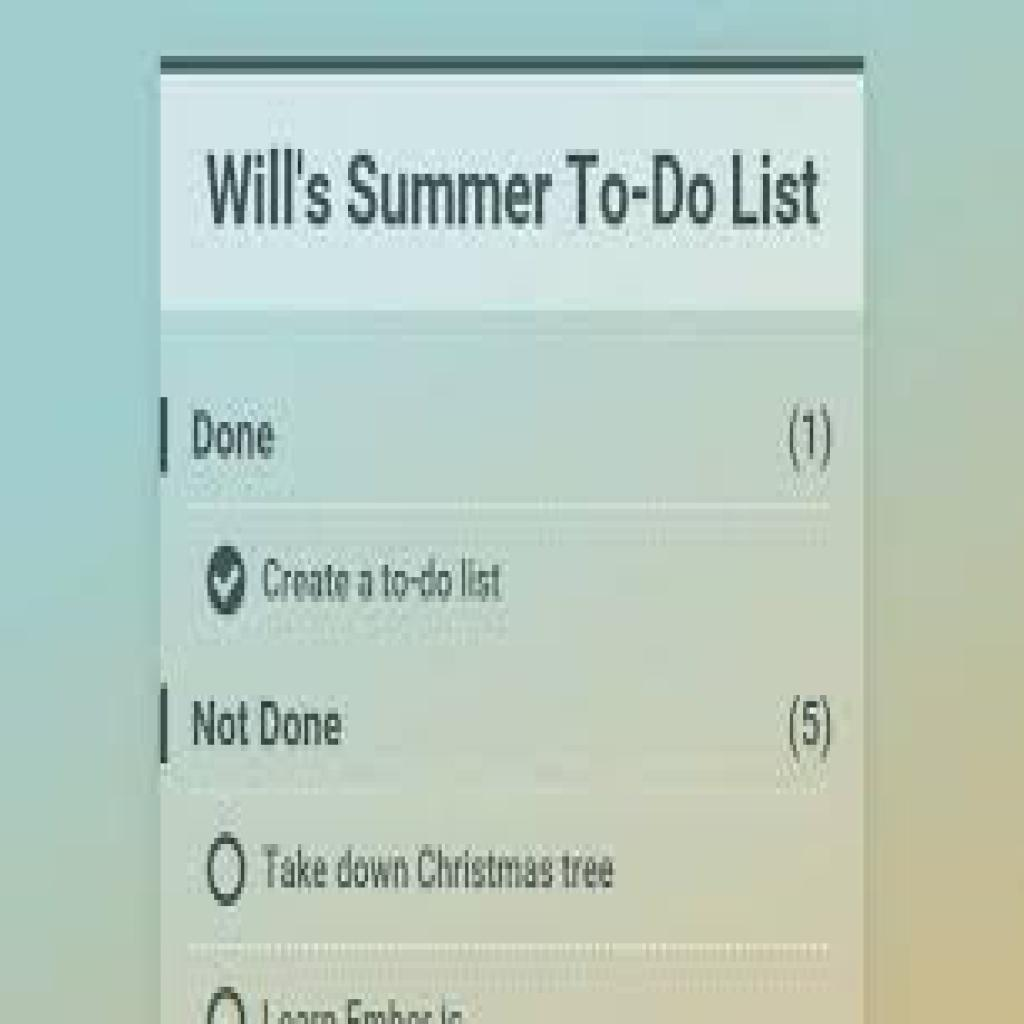label: (187, 140, 837, 261), (264, 829, 627, 899), (263, 549, 511, 613), (184, 689, 352, 761), (192, 413, 287, 472)
radio: (207, 828, 248, 912), (207, 542, 248, 625)
